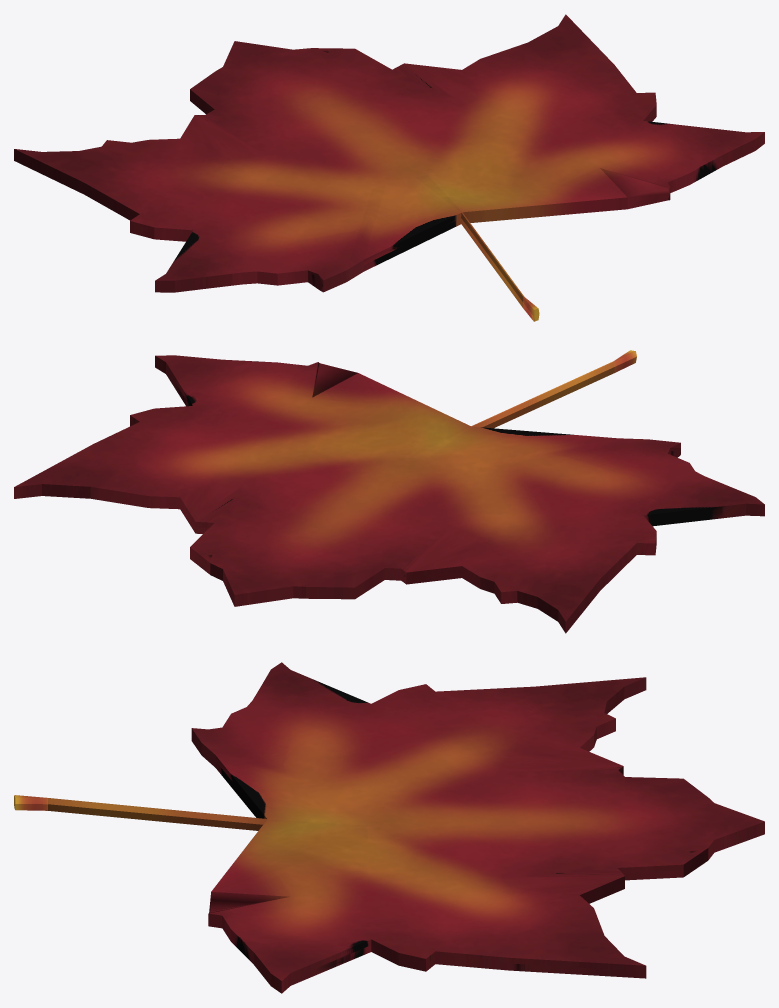
File: Leaf_02_Low_Polygon.fbx
3 views of the same model, one above another, from view 1: azimuth 30°, elevation 25°; view 2: azimuth 150°, elevation 25°; view 3: azimuth 270°, elevation 25° (orthographic). The views are drawn at different scales.
Visible parts, largest first — view 1: Leaf_02_Low_Polygon; view 2: Leaf_02_Low_Polygon; view 3: Leaf_02_Low_Polygon.
Boxes of the visible parts, x1,y1,x2,y2 form: Leaf_02_Low_Polygon: [14, 14, 764, 321]; Leaf_02_Low_Polygon: [14, 350, 764, 633]; Leaf_02_Low_Polygon: [14, 662, 764, 993].
Size of the model in its own units: 3.14 by 0.0603 by 3.13.
